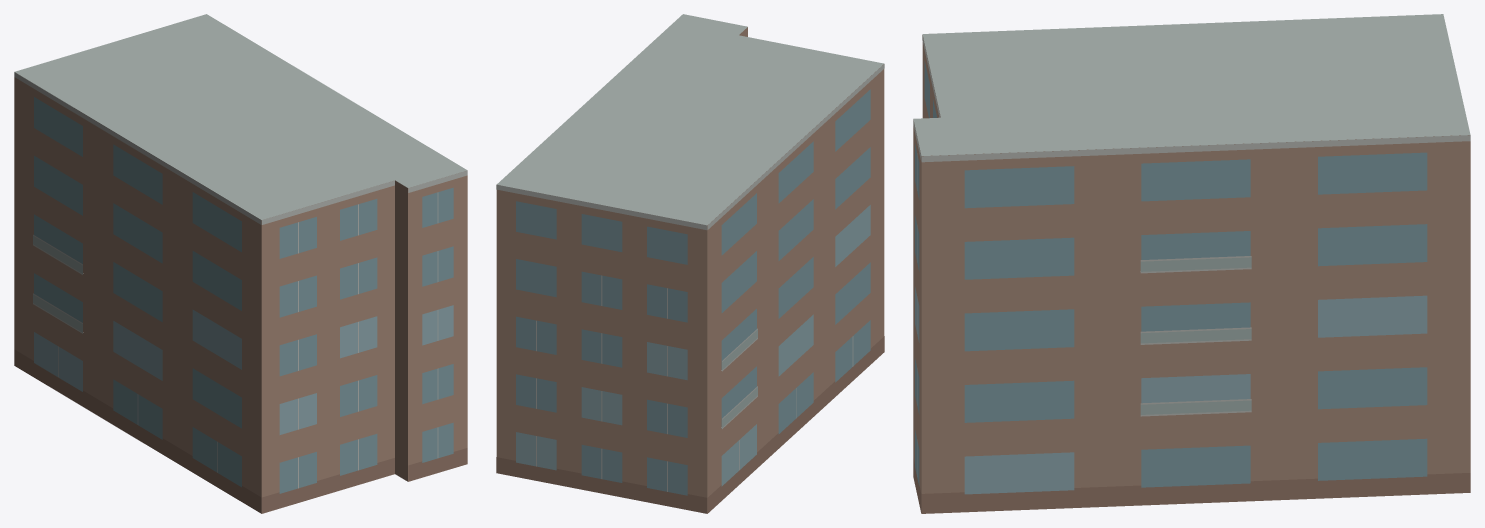
File: survey-upis-33018558.glb
3 views of the same model, side by side, from view 1: azimuth 30°, elevation 25°; view 2: azimuth 150°, elevation 25°; view 3: azimuth 270°, elevation 25° (orthographic). The views are drawn at different scales.
Parts seen in each view (by area): view 1: survey-upis-33018558.tmp; view 2: survey-upis-33018558.tmp; view 3: survey-upis-33018558.tmp.
Boxes of the visible parts, x1=… form: survey-upis-33018558.tmp: x1=14, y1=14, x2=467, y2=513; survey-upis-33018558.tmp: x1=496, y1=14, x2=884, y2=513; survey-upis-33018558.tmp: x1=913, y1=14, x2=1470, y2=513.
Size of the model in its own units: 12.11 by 14.2 by 20.06.
